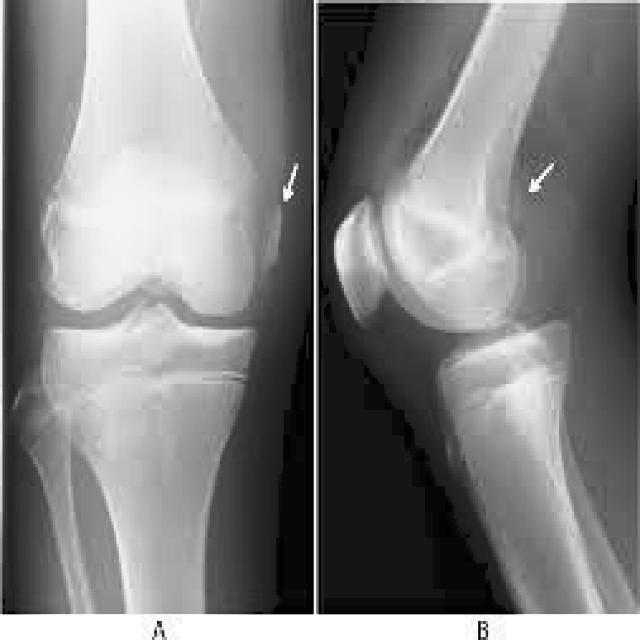Avlusion Fracture: (260, 195, 286, 277), (502, 184, 534, 238)
